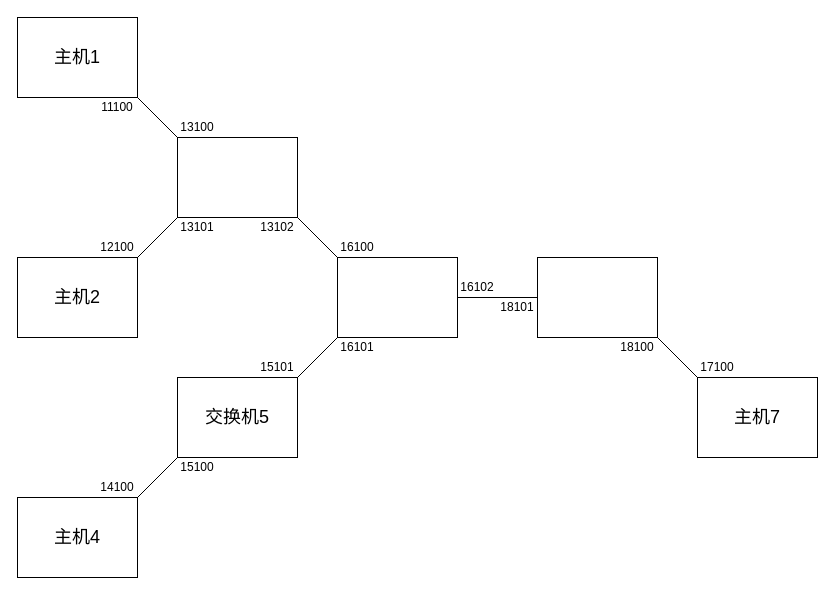
This 835x595 diagram has some shape labels left out. The shapes that lost their labels are listed below. From the top down, each one's centre as x and y in pixels, then its label:
At point (237, 177): "交换机3".
At point (397, 297): "路由器6".
At point (597, 297): "路由器8".
